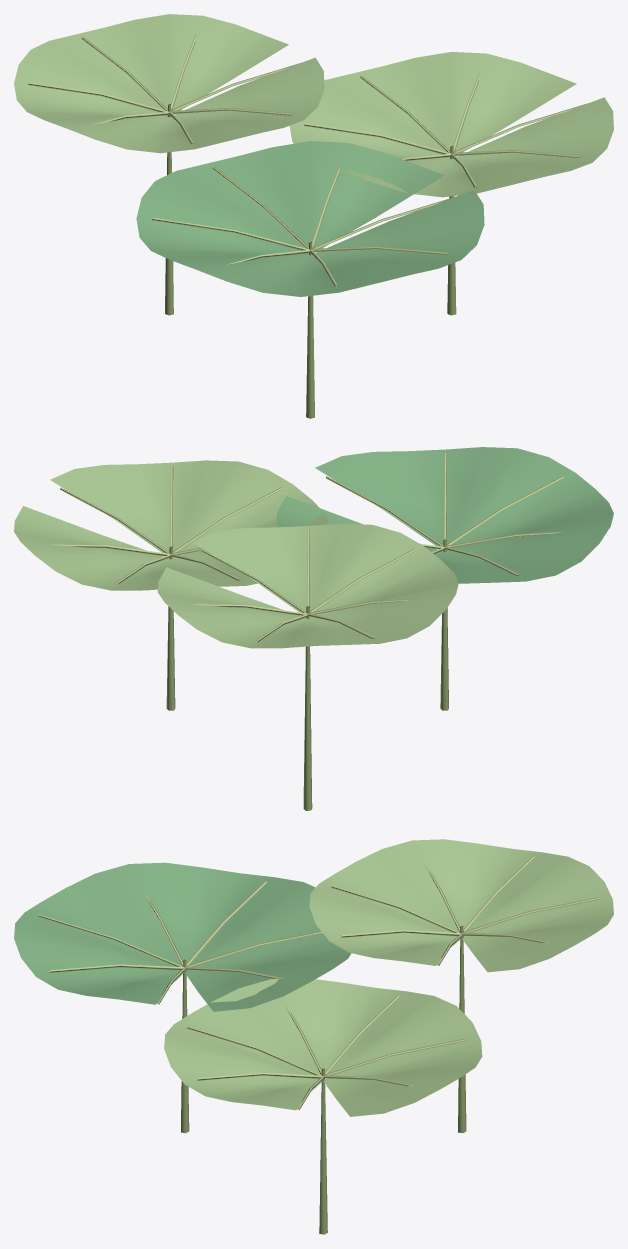
Rendered from lake_lotus_0.glb.
3 views of the same model, one above another, from view 1: azimuth 30°, elevation 25°; view 2: azimuth 150°, elevation 25°; view 3: azimuth 270°, elevation 25° (orthographic). The views are drawn at different scales.
Parts seen in each view (by area): view 1: lake_lotus_0_LakeLeafLight, lake_lotus_0_LakeLeaf, lake_lotus_0_LakeVein, lake_lotus_0_LakeReed; view 2: lake_lotus_0_LakeLeafLight, lake_lotus_0_LakeLeaf, lake_lotus_0_LakeVein, lake_lotus_0_LakeReed; view 3: lake_lotus_0_LakeLeafLight, lake_lotus_0_LakeLeaf, lake_lotus_0_LakeVein, lake_lotus_0_LakeReed.
Boxes of the visible parts, left/top/right/bottom form: lake_lotus_0_LakeLeafLight: left=14, top=14, right=613, bottom=197; lake_lotus_0_LakeLeaf: left=136, top=141, right=484, bottom=296; lake_lotus_0_LakeVein: left=27, top=34, right=586, bottom=287; lake_lotus_0_LakeReed: left=165, top=104, right=456, bottom=418; lake_lotus_0_LakeLeafLight: left=14, top=460, right=458, bottom=648; lake_lotus_0_LakeLeaf: left=276, top=447, right=613, bottom=583; lake_lotus_0_LakeVein: left=51, top=452, right=567, bottom=642; lake_lotus_0_LakeReed: left=166, top=539, right=448, bottom=810; lake_lotus_0_LakeLeafLight: left=164, top=839, right=613, bottom=1116; lake_lotus_0_LakeLeaf: left=14, top=862, right=351, bottom=1011; lake_lotus_0_LakeVein: left=38, top=855, right=599, bottom=1110; lake_lotus_0_LakeReed: left=181, top=926, right=466, bottom=1234.
Size of the model in its own units: 1.7 by 0.761 by 1.8.
